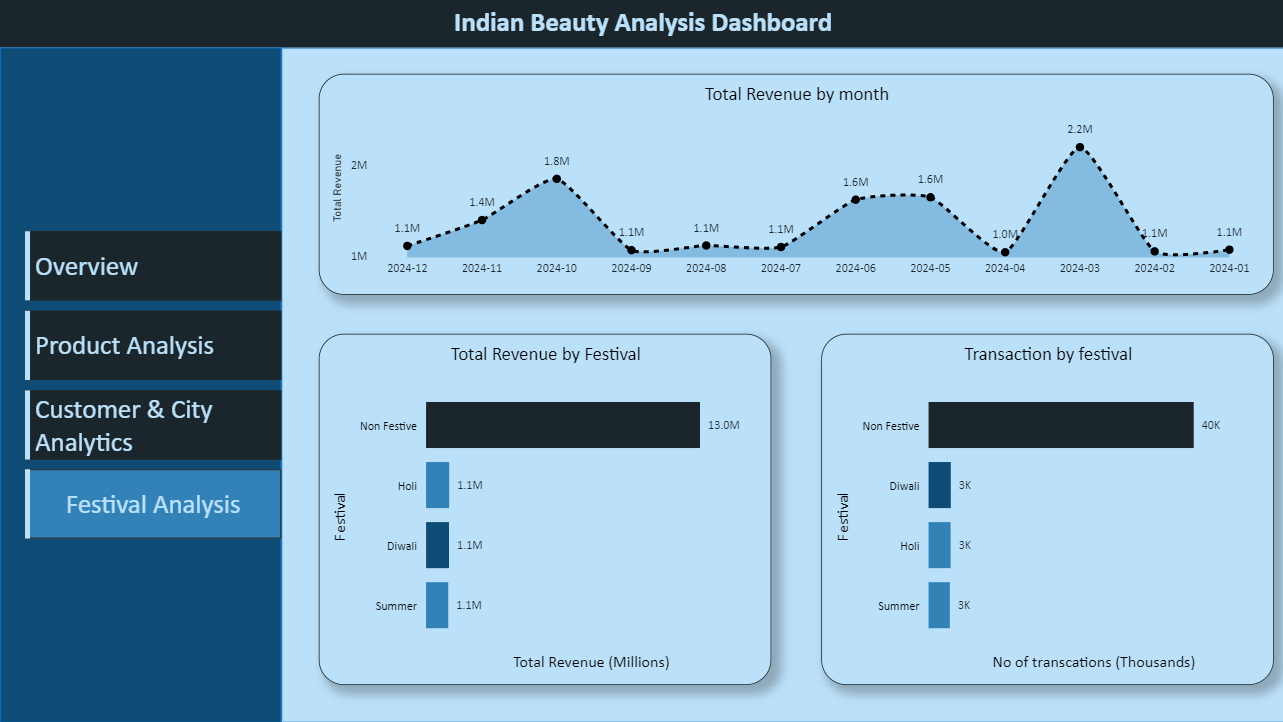

Layout of this report page (visuals, bound fields, positions):
{"tool":"powerbi","page":{"name":"Festival Analysis","canvas":[1280,720],"ordinal":3},"visuals":[{"type":"shape","box":[279.9,47,1000.1,673],"z":0},{"type":"barChart","fields":{"Category":["sales_encriched.festival"],"Y":["KPI & Measures.Total Revenue"]},"box":[317.2,331.5,450.3,349.6],"z":1000},{"type":"barChart","title":"Transaction by festival","fields":{"Category":["sales_encriched.festival"],"Y":["Count(sales_encriched.transaction_id)"]},"box":[817.3,331.5,450.3,349.6],"z":2000},{"type":"lineChart","title":"Total Revenue by month","fields":{"Category":["sales_encriched.year_month"],"Y":["KPI & Measures.Total Revenue"]},"box":[317.2,73.4,950.4,220.2],"z":3000},{"type":"textbox","box":[0,0,1280,47.3],"z":4000},{"type":"shape","box":[0,46.8,279.9,673],"z":5000},{"type":"pageNavigator","box":[24.9,230.3,255,306],"z":6000}]}

Visuals, with their boxes in screenshot pixels (x1, y1, x2, y2), scaled from the page's 1280x720 canvas onto the 1283x722 screenshot:
shape: x1=281 y1=47 x2=1282 y2=721
barChart - sales_encriched.festival x KPI & Measures.Total Revenue: x1=318 y1=332 x2=769 y2=683
"Transaction by festival" barChart: x1=819 y1=332 x2=1271 y2=683
"Total Revenue by month" lineChart: x1=318 y1=74 x2=1271 y2=294
textbox: x1=0 y1=0 x2=1282 y2=47
shape: x1=0 y1=47 x2=281 y2=721
pageNavigator: x1=25 y1=231 x2=281 y2=538
